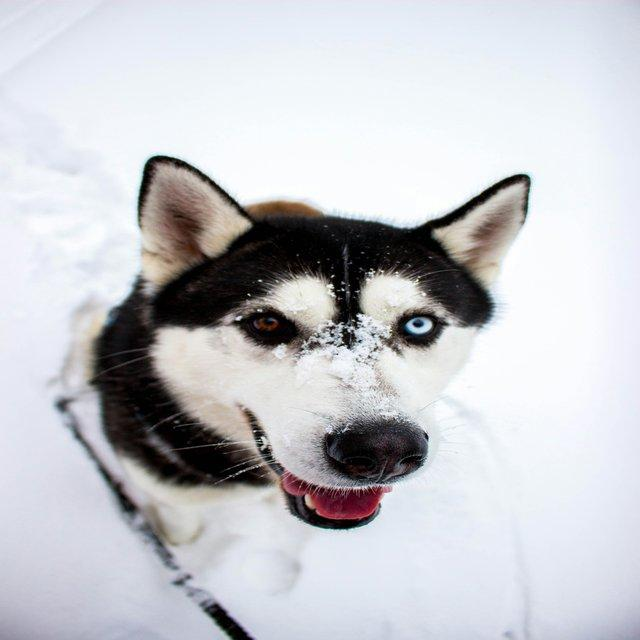husky: (57, 152, 532, 606)
